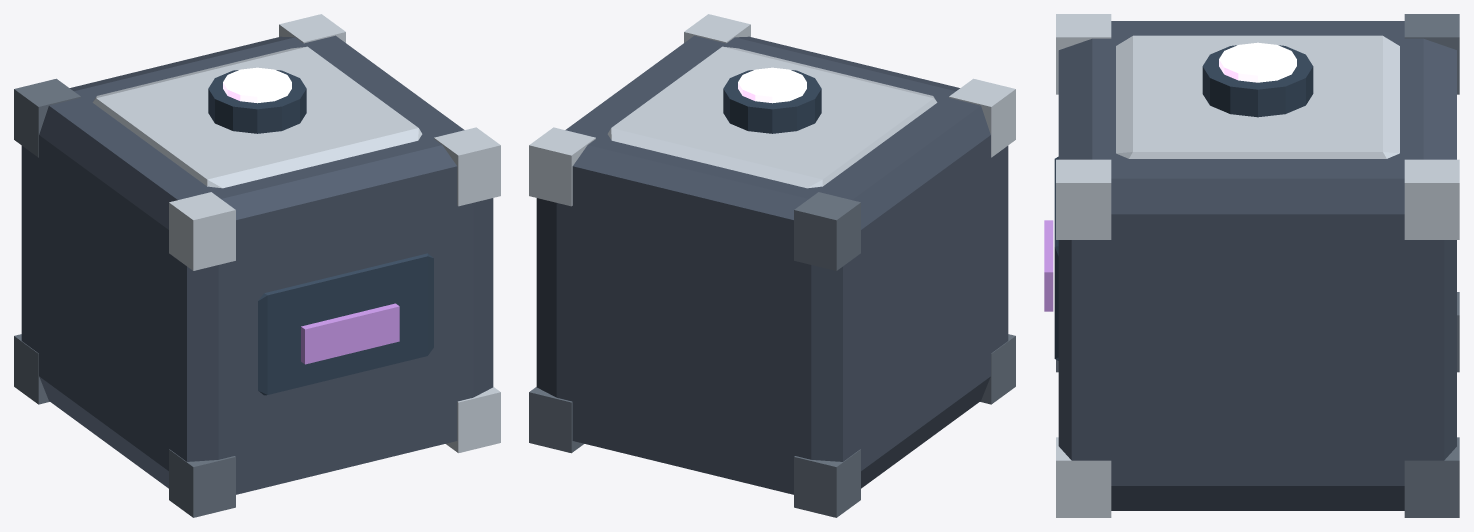
Rendered from box_mystery.glb.
3 views of the same model, side by side, from view 1: azimuth 30°, elevation 25°; view 2: azimuth 150°, elevation 25°; view 3: azimuth 270°, elevation 25° (orthographic). The views are drawn at different scales.
Visible parts, largest first — view 1: sci_fi_chassis, reinforced_lid, front_interface_armor, outer_corner_joint_011, front_hologram_window, top_lock, outer_corner_joint_010, outer_corner_joint_111, outer_corner_joint_001, outer_corner_joint_110, top_lock_energy, outer_corner_joint_000 (+1 smaller); view 2: sci_fi_chassis, reinforced_lid, outer_corner_joint_001, top_lock, outer_corner_joint_000, outer_corner_joint_101, outer_corner_joint_011, outer_corner_joint_100, top_lock_energy, outer_corner_joint_010, outer_corner_joint_111; view 3: sci_fi_chassis, reinforced_lid, top_lock, outer_corner_joint_101, outer_corner_joint_111, outer_corner_joint_100, outer_corner_joint_110, top_lock_energy, outer_corner_joint_001, outer_corner_joint_011, front_hologram_window, front_interface_armor.
Part boxes in pixels (x1,y1,x2,y2): sci_fi_chassis: (21,35,493,494); reinforced_lid: (92,46,422,188); front_interface_armor: (258,253,433,395); outer_corner_joint_011: (169,192,235,270); front_hologram_window: (301,303,399,364); top_lock: (208,70,306,133); outer_corner_joint_010: (169,449,235,517); outer_corner_joint_111: (434,127,500,206); outer_corner_joint_001: (14,78,80,157); outer_corner_joint_110: (445,387,500,453); top_lock_energy: (223,67,291,103); outer_corner_joint_000: (14,334,49,404); sci_fi_chassis: (536,35,1008,494); reinforced_lid: (607,46,937,188); outer_corner_joint_001: (794,192,860,270); top_lock: (723,70,821,133); outer_corner_joint_000: (794,449,860,517); outer_corner_joint_101: (529,127,595,206); outer_corner_joint_011: (949,78,1015,157); outer_corner_joint_100: (529,387,584,453); top_lock_energy: (738,67,806,103); outer_corner_joint_010: (980,334,1015,404); outer_corner_joint_111: (684,14,750,43); sci_fi_chassis: (1058,21,1456,510); reinforced_lid: (1116,35,1399,158); top_lock: (1202,45,1313,117); outer_corner_joint_101: (1404,159,1459,239); outer_corner_joint_111: (1056,159,1111,239); outer_corner_joint_100: (1404,437,1459,517); outer_corner_joint_110: (1056,437,1111,517); top_lock_energy: (1219,42,1296,82); outer_corner_joint_001: (1404,14,1459,94); outer_corner_joint_011: (1056,14,1111,94); front_hologram_window: (1044,220,1053,311); front_interface_armor: (1054,156,1058,360).
Size of the model in its own units: 1.52 by 1.57 by 1.58.
